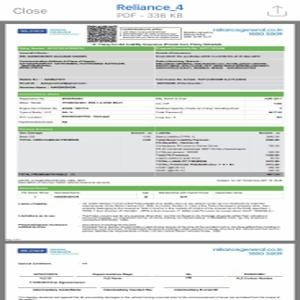image: (15, 247, 47, 255), (15, 27, 48, 33)
table: (17, 128, 284, 187), (18, 187, 285, 234), (18, 46, 284, 91), (17, 91, 283, 126)
text: (212, 24, 282, 37)
